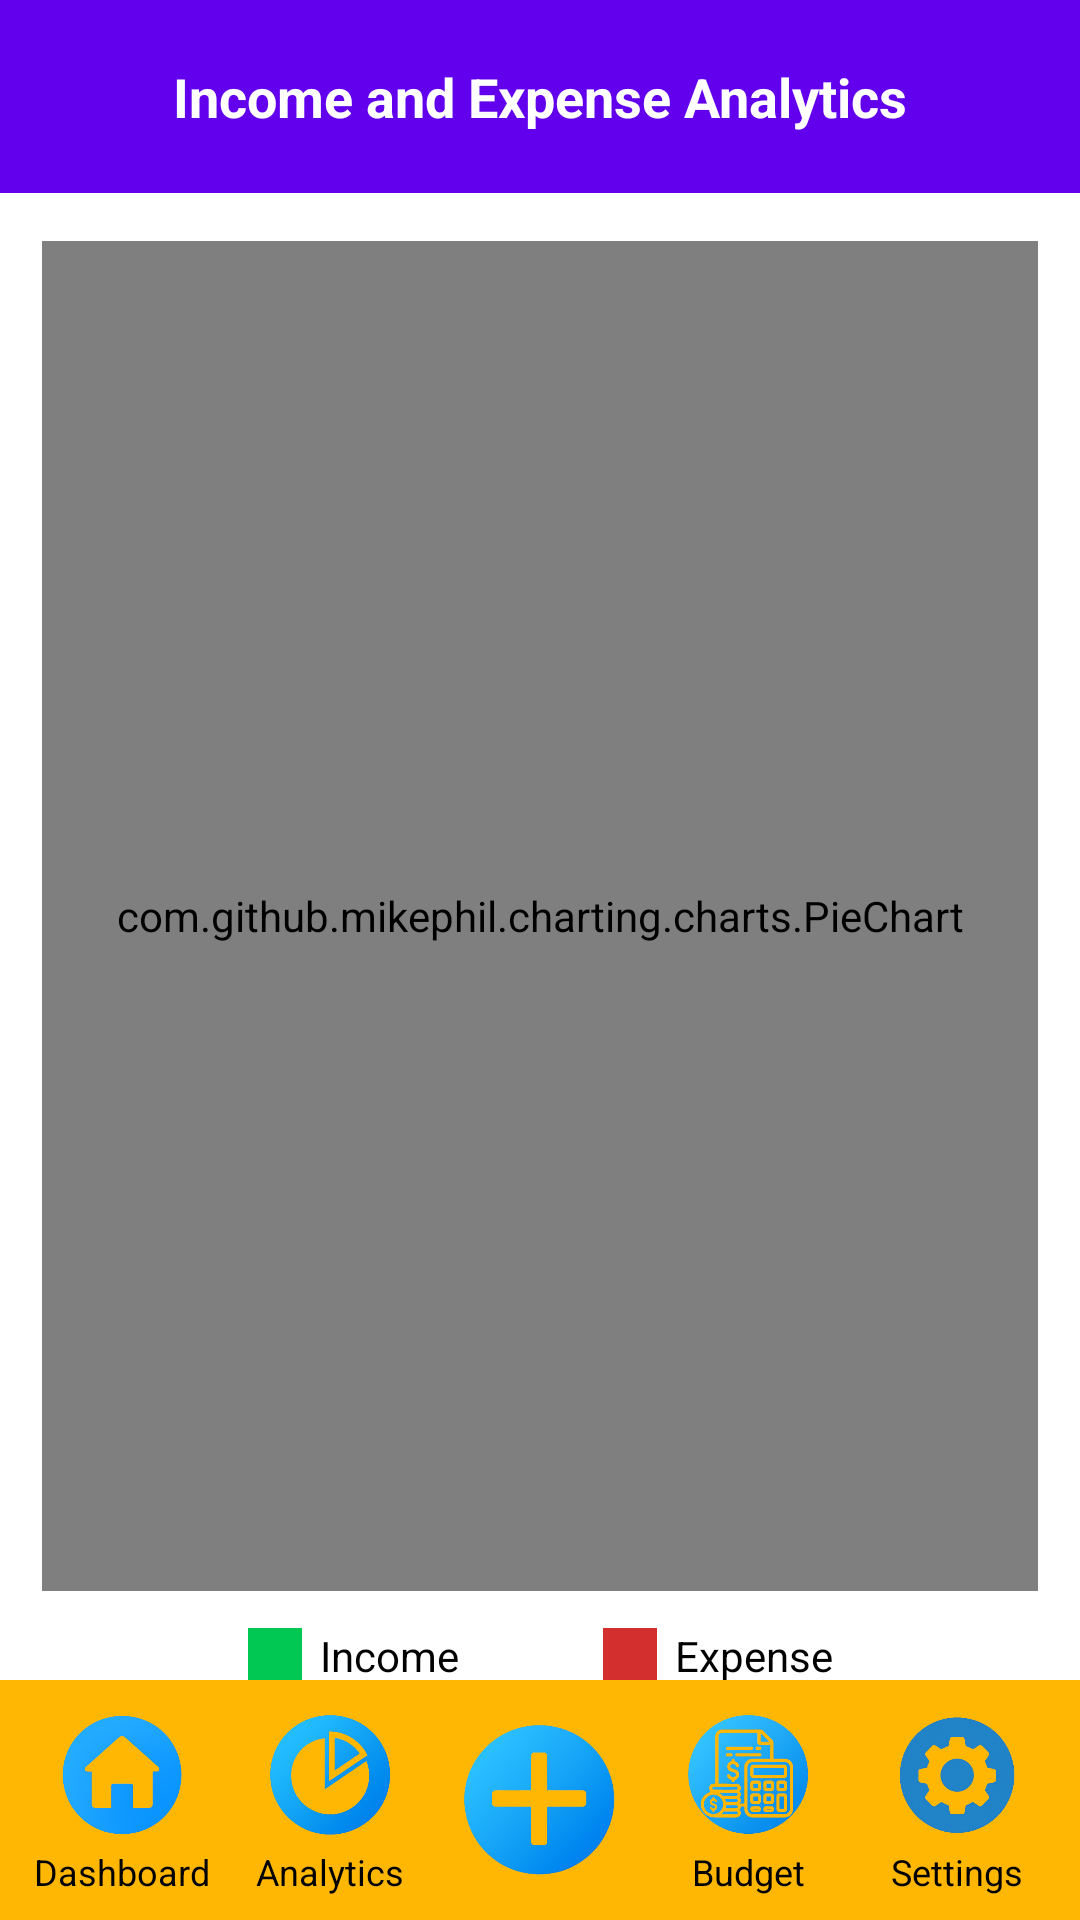

Named icons in this screenshot (1080px x 1920px) and their centers, (x=x, y=y):
Add: (x=539, y=1800)
Home: (x=122, y=1775)
